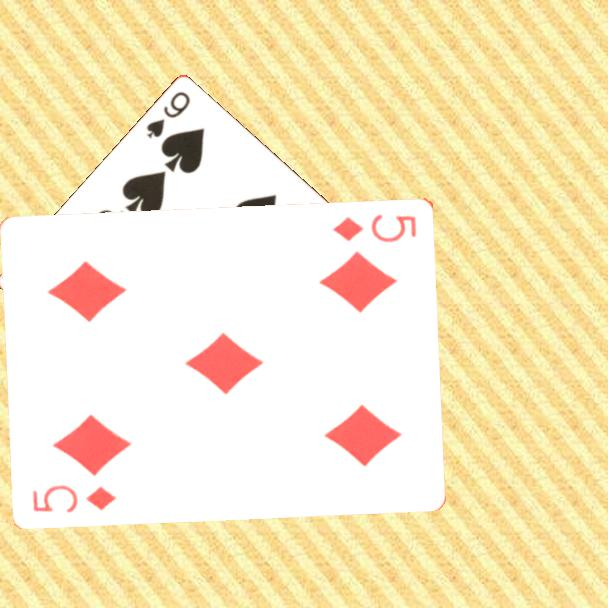d05: (329, 210, 420, 245), (30, 481, 120, 515)
s09: (143, 88, 193, 142)
